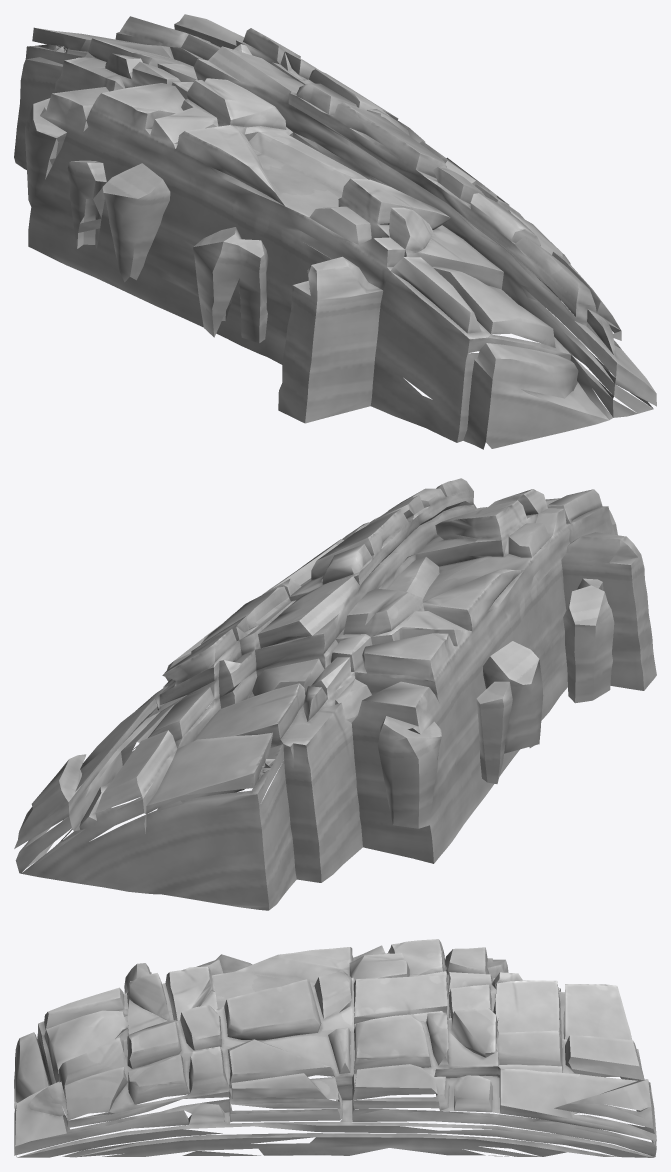
Rendered from sculpted_ledge_03.glb.
3 views of the same model, one above another, from view 1: azimuth 30°, elevation 25°; view 2: azimuth 150°, elevation 25°; view 3: azimuth 270°, elevation 25° (orthographic). The views are drawn at different scales.
Parts seen in each view (by area): view 1: sculpted_ledge_03; view 2: sculpted_ledge_03; view 3: sculpted_ledge_03.
Boxes of the visible parts, box(x1,y1,x2,y2) form: sculpted_ledge_03: box(14, 14, 656, 449); sculpted_ledge_03: box(14, 478, 656, 910); sculpted_ledge_03: box(14, 939, 656, 1157).
Bounding box in the file's own units: 16.2 × 9.29 × 38.04.
Materials: 1 (1 with a texture image).
